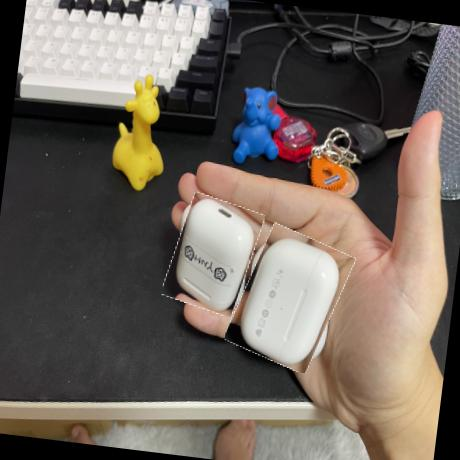airpod2: (164, 193, 262, 317)
airpod3: (229, 224, 350, 373)
